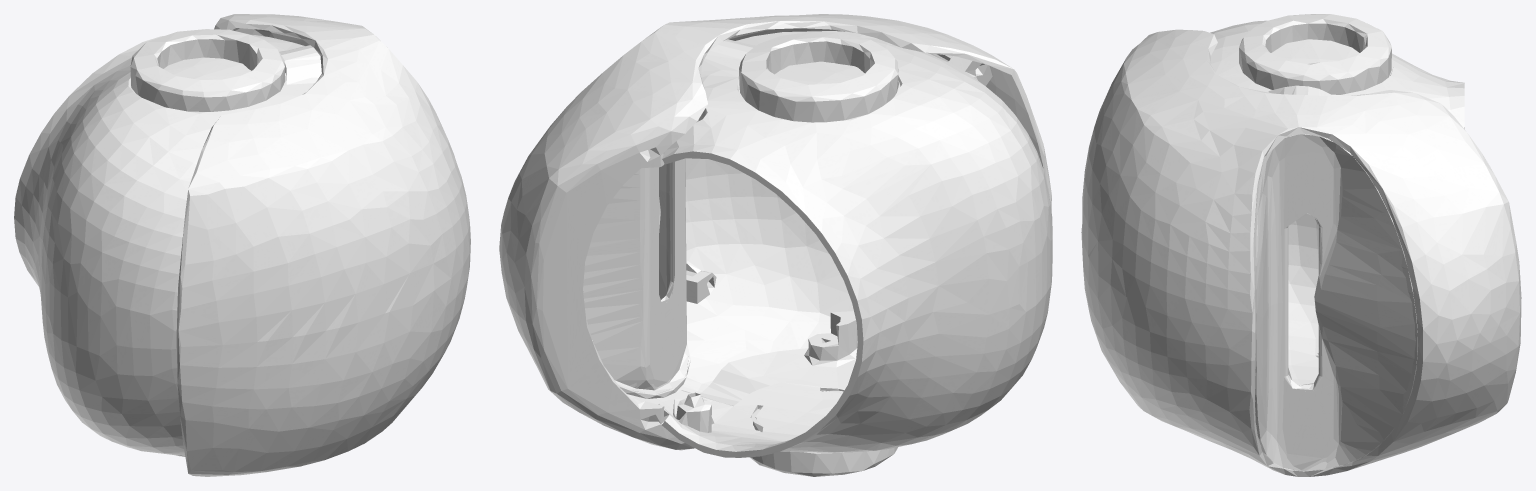
The model's file is head_2.dae.
3 renders of one model, left to right at view 1: azimuth 30°, elevation 25°; view 2: azimuth 150°, elevation 25°; view 3: azimuth 270°, elevation 25°, orthographic. The views are drawn at different scales.
Visible parts, largest first — view 1: node; view 2: node; view 3: node.
Boxes of the visible parts, <box> form: node: <box>14,14,470,476</box>; node: <box>499,14,1052,476</box>; node: <box>1081,14,1521,476</box>.
Bounding box in the file's own units: 0.2225 × 0.1873 × 0.202.
Materials: 1 (1 with a texture image).
